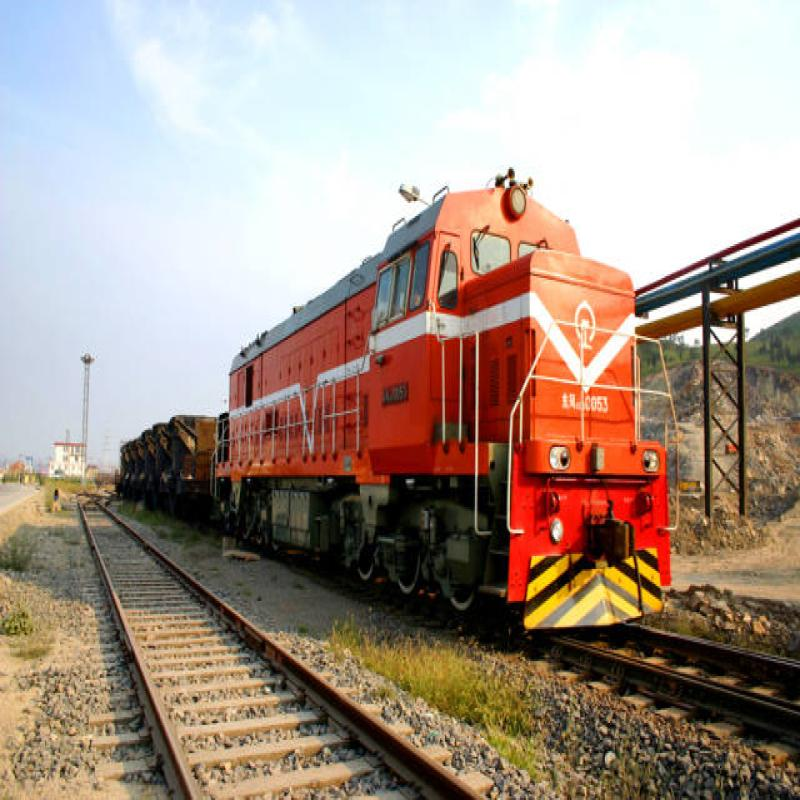train: (218, 159, 686, 641)
